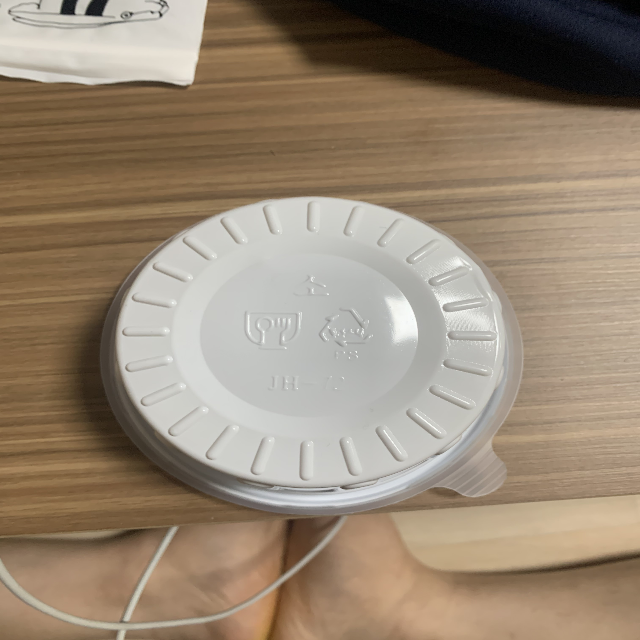ps: (316, 304, 375, 364)
